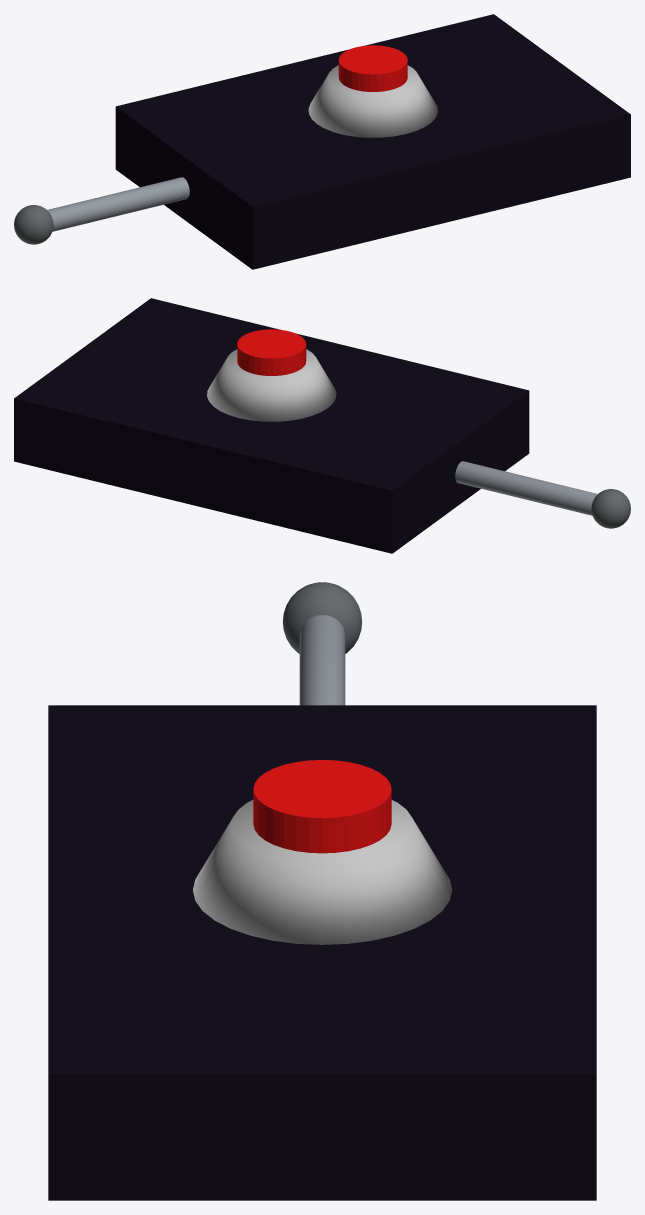
File: BOME.fbx
3 views of the same model, one above another, from view 1: azimuth 30°, elevation 25°; view 2: azimuth 150°, elevation 25°; view 3: azimuth 270°, elevation 25° (orthographic). The views are drawn at different scales.
Parts seen in each view (by area): view 1: 立方体, 円柱.001, 円柱, 円柱.002, 球; view 2: 立方体, 円柱.001, 円柱, 円柱.002, 球; view 3: 立方体, 円柱.001, 円柱.002, 円柱, 球.
Boxes of the visible parts, left/top/right/bottom form: 立方体: left=115, top=14, right=630, bottom=269; 円柱.001: left=308, top=65, right=437, bottom=137; 円柱: left=47, top=177, right=189, bottom=231; 円柱.002: left=338, top=45, right=407, bottom=91; 球: left=14, top=205, right=53, bottom=244; 立方体: left=14, top=298, right=529, bottom=553; 円柱.001: left=207, top=349, right=336, bottom=421; 円柱: left=455, top=461, right=597, bottom=515; 円柱.002: left=237, top=329, right=306, bottom=375; 球: left=591, top=489, right=630, bottom=528; 立方体: left=48, top=705, right=596, bottom=1200; 円柱.001: left=193, top=800, right=451, bottom=944; 円柱.002: left=253, top=760, right=391, bottom=853; 円柱: left=299, top=615, right=345, bottom=705; 球: left=282, top=582, right=362, bottom=653.
Bounding box in the file's own units: 101 × 20.06 × 43.89.
